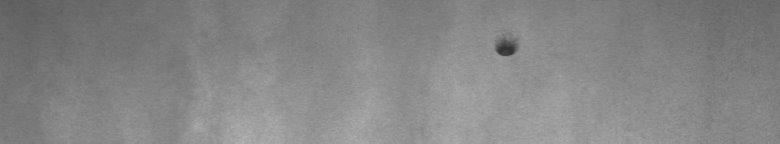fi: (489, 32, 523, 64)
